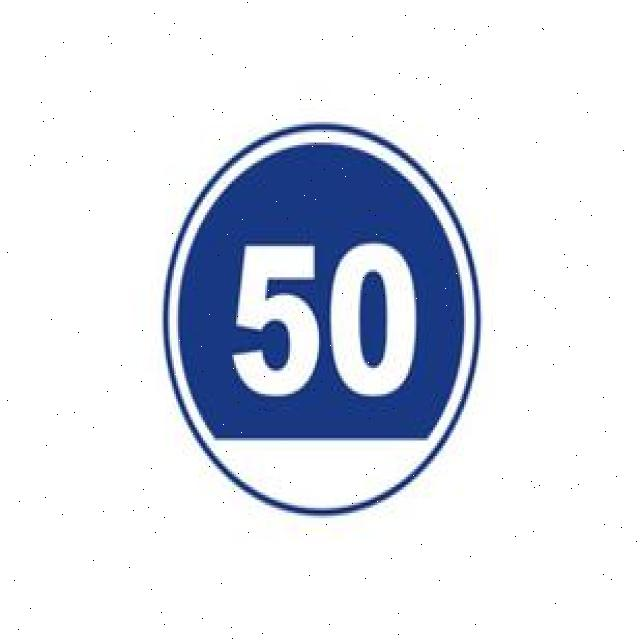speed limit 50: (161, 123, 480, 520)
